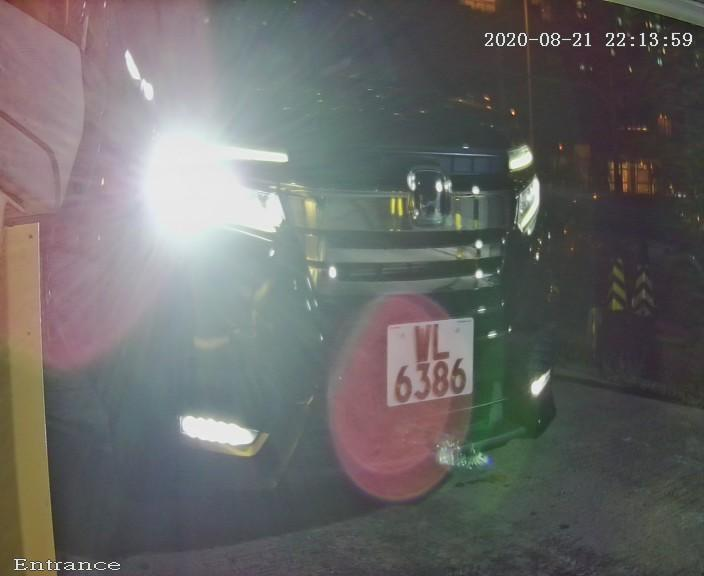Car: (10, 6, 635, 538)
License Plate: (371, 309, 488, 415)
